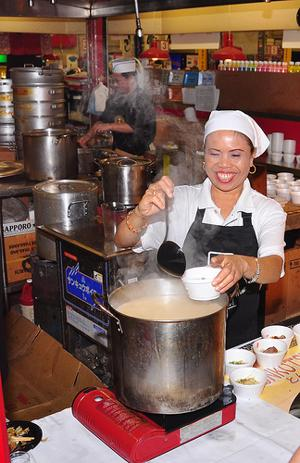person: (114, 112, 286, 356)
